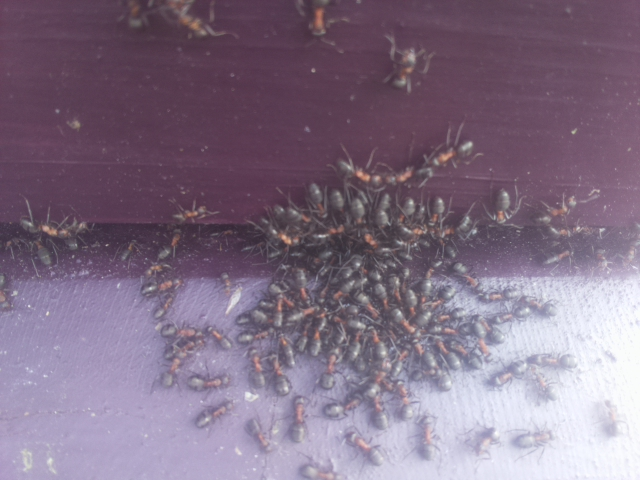ant: (407, 128, 479, 189), (334, 420, 393, 475), (18, 208, 87, 255), (384, 33, 431, 100), (412, 334, 464, 391), (326, 152, 390, 195), (138, 271, 191, 320), (528, 188, 584, 234), (251, 208, 306, 253), (186, 393, 241, 431), (299, 175, 338, 225), (466, 312, 509, 355), (241, 412, 278, 460), (445, 258, 489, 297), (422, 189, 453, 244), (595, 393, 628, 444), (364, 377, 393, 434), (293, 0, 336, 38), (316, 347, 344, 396), (287, 391, 311, 446), (198, 321, 238, 354), (264, 354, 295, 396), (386, 302, 421, 337), (216, 282, 249, 318), (164, 201, 215, 224), (188, 370, 236, 394), (536, 348, 580, 374), (493, 356, 526, 389), (247, 346, 269, 395), (490, 183, 514, 227), (122, 0, 154, 33), (323, 395, 363, 421), (158, 353, 184, 393), (539, 244, 577, 271), (392, 381, 416, 422), (156, 227, 184, 261), (528, 370, 557, 402), (417, 420, 437, 464), (427, 282, 457, 311), (290, 268, 315, 301), (515, 428, 553, 449), (116, 235, 141, 266), (297, 464, 352, 478), (278, 331, 296, 370), (476, 427, 500, 456)
